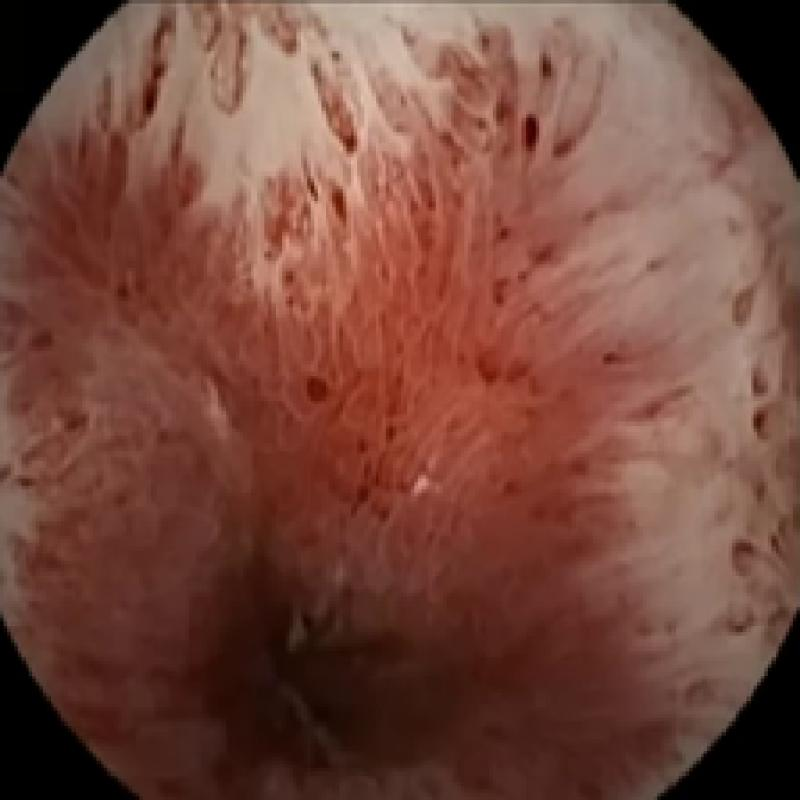bleeding: (0, 28, 696, 800)
